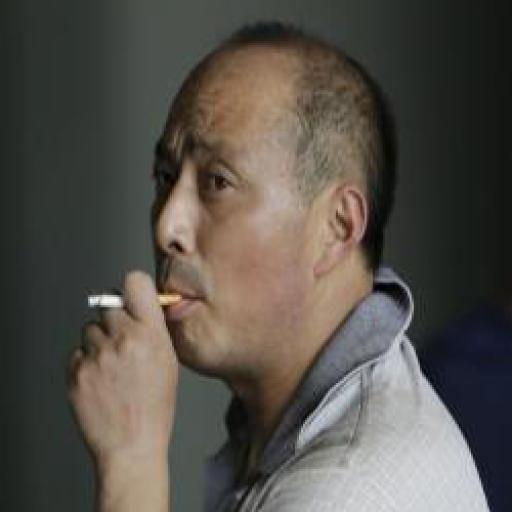merokok: (79, 158, 203, 384)
